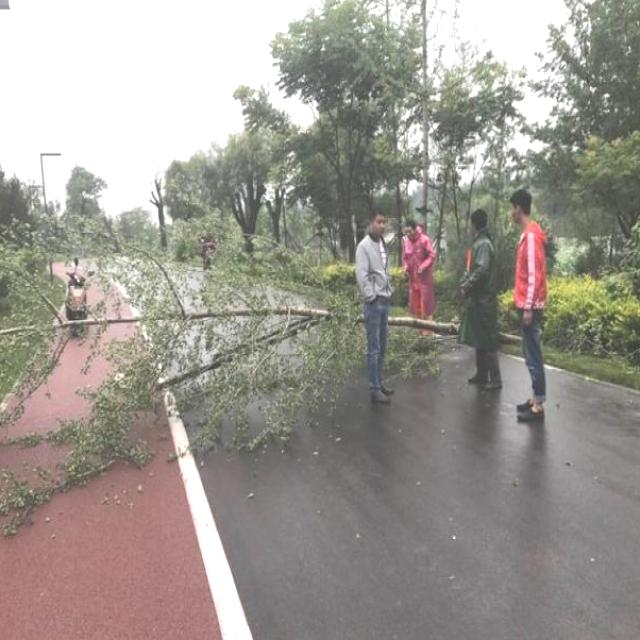fallen_object: (0, 215, 529, 357)
